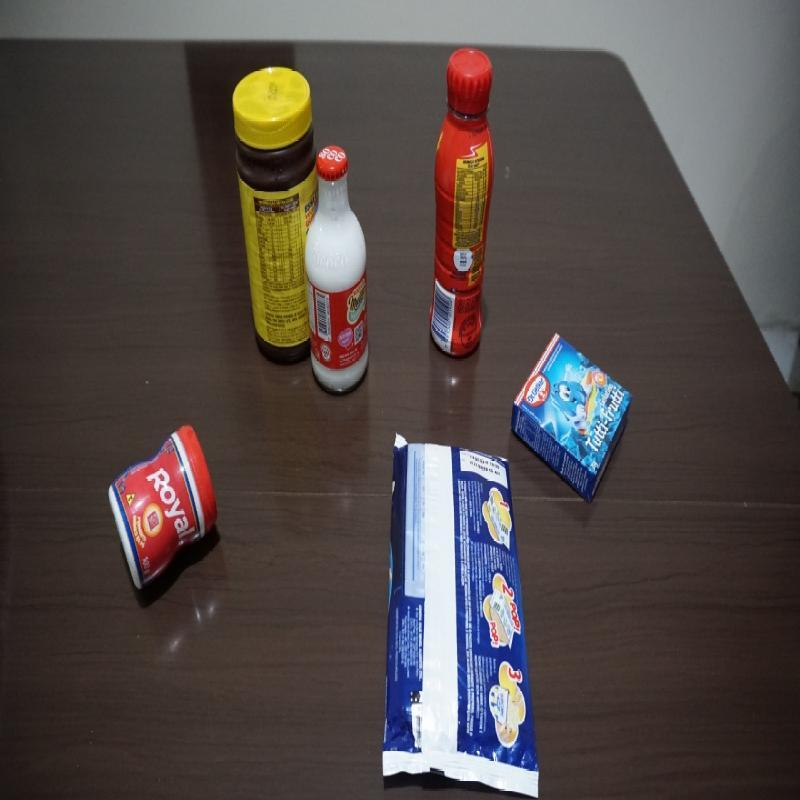Chocolate Milk: (425, 44, 497, 370)
Chocolate Powder: (229, 65, 328, 368)
Coconut Milk: (304, 145, 371, 406)
Gelatine: (511, 331, 637, 506)
Popcorn: (381, 430, 540, 799)
Yeast: (106, 425, 222, 596)
